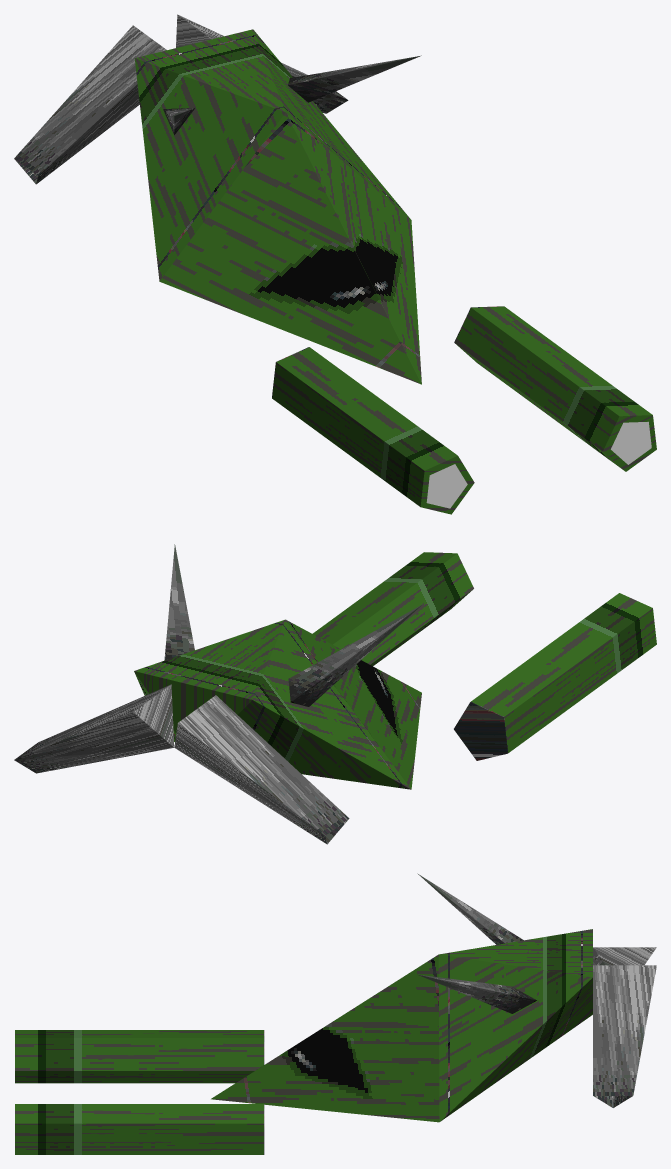
The model's file is model_059_robot_noname.glb.
3 renders of one model, top to bottom at view 1: azimuth 30°, elevation 25°; view 2: azimuth 150°, elevation 25°; view 3: azimuth 270°, elevation 25°, orthographic. The views are drawn at different scales.
Visible parts, largest first — view 1: model_059; view 2: model_059; view 3: model_059.
Boxes of the visible parts, x1,y1,x2,y2 form: model_059: (14, 14, 656, 514); model_059: (14, 544, 656, 844); model_059: (15, 873, 656, 1154).
Size of the model in its own units: 6.06 by 4.33 by 12.96.
Materials: 5 (4 with a texture image).
